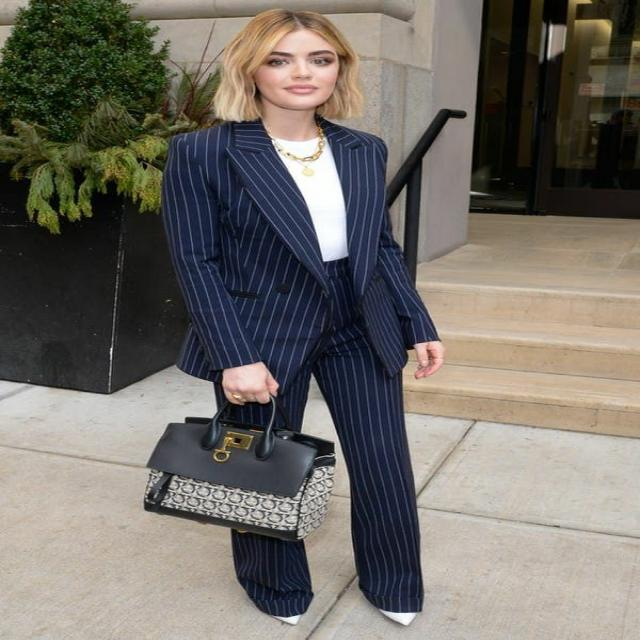male-dress: (134, 118, 453, 610)
